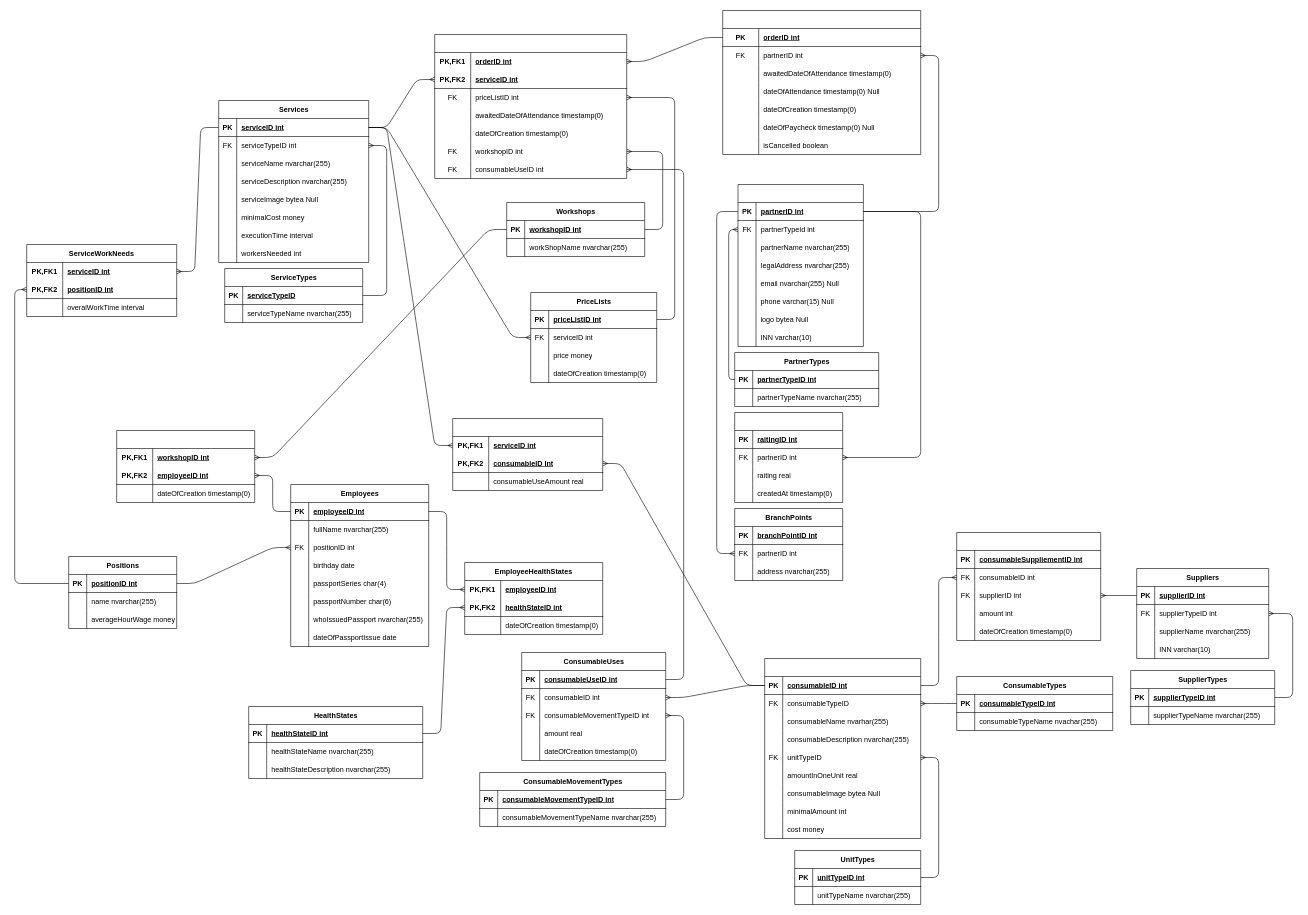
Some shapes in this 1308 by 915 pixel diagram are drawn without their labels. The box of each missing label's shape, as (x1, y1, x2, y2) in pixels:
AttendedServices: (434, 34, 627, 178)
Consumables: (764, 658, 921, 838)
ConsumableSuppliements: (956, 532, 1101, 640)
EmployeeMovements: (116, 430, 255, 502)
Orders: (722, 10, 921, 154)
Partners: (737, 184, 863, 346)
Raitings: (734, 412, 843, 502)
ServiceNeeds: (452, 418, 603, 490)
